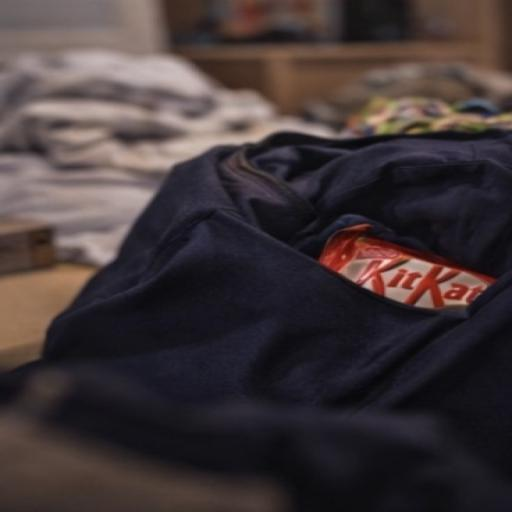kitkat: (261, 174, 512, 363)
